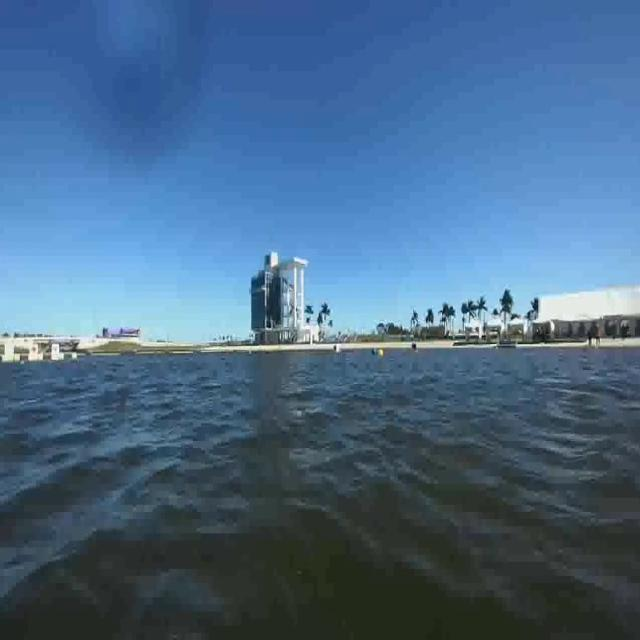yellow-buoy: (380, 348, 386, 358)
